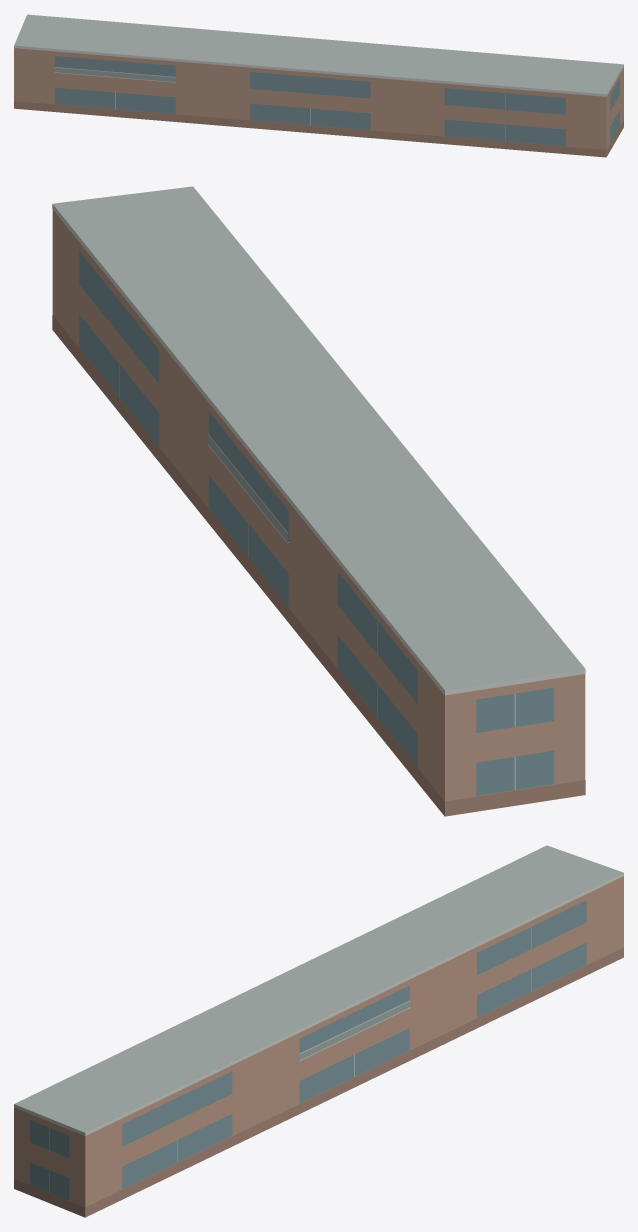
The model's file is survey-upis-32949560.glb.
3 renders of one model, top to bottom at view 1: azimuth 30°, elevation 25°; view 2: azimuth 150°, elevation 25°; view 3: azimuth 270°, elevation 25°, orthographic. The views are drawn at different scales.
Visible parts, largest first — view 1: survey-upis-32949560.tmp; view 2: survey-upis-32949560.tmp; view 3: survey-upis-32949560.tmp.
Boxes of the visible parts, x1=… form: survey-upis-32949560.tmp: x1=14, y1=14, x2=623, y2=157; survey-upis-32949560.tmp: x1=52, y1=186, x2=585, y2=816; survey-upis-32949560.tmp: x1=14, y1=845, x2=623, y2=1217.
Bounding box in the file's own units: 44.37 × 6.1 × 39.77.
